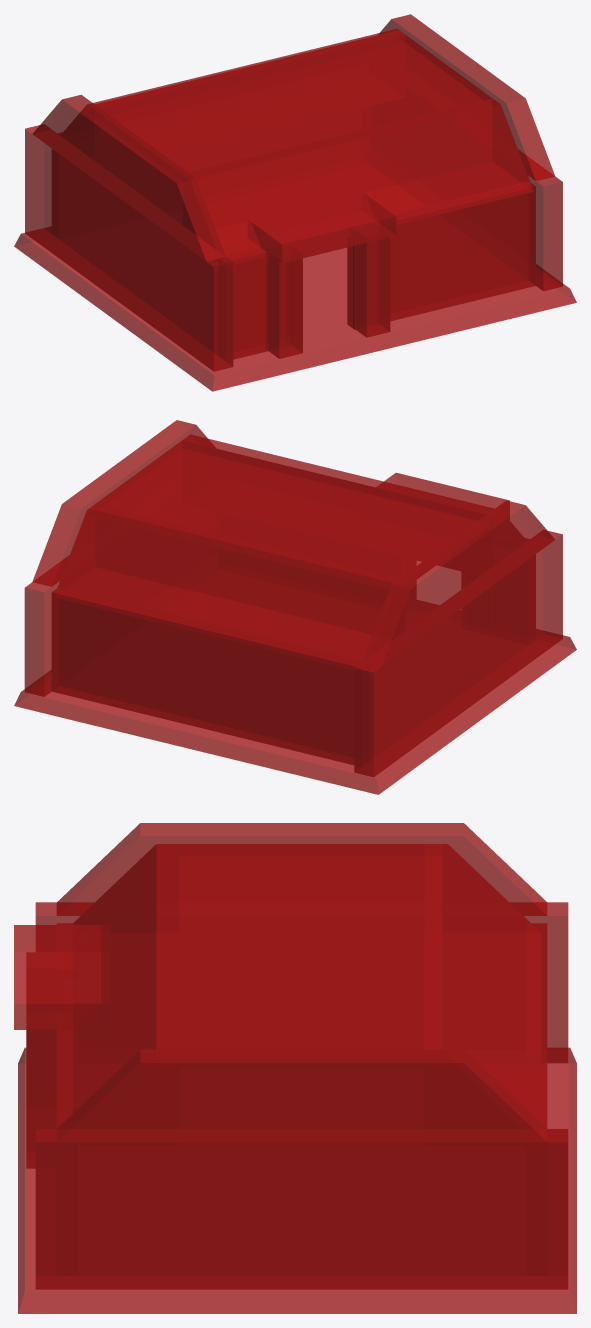
Rendered from SM_Bld_Dwarf_Building_03_Collision.fbx.
3 renders of one model, top to bottom at view 1: azimuth 30°, elevation 25°; view 2: azimuth 150°, elevation 25°; view 3: azimuth 270°, elevation 25°, orthographic. The views are drawn at different scales.
Visible parts, largest first — view 1: SM_Bld_Dwarf_Building_03_Collision; view 2: SM_Bld_Dwarf_Building_03_Collision; view 3: SM_Bld_Dwarf_Building_03_Collision.
Boxes of the visible parts, x1,y1,x2,y2 form: SM_Bld_Dwarf_Building_03_Collision: (14,14,576,391); SM_Bld_Dwarf_Building_03_Collision: (14,420,576,794); SM_Bld_Dwarf_Building_03_Collision: (14,823,576,1313).
Size of the model in its own units: 846 by 387 by 803.
